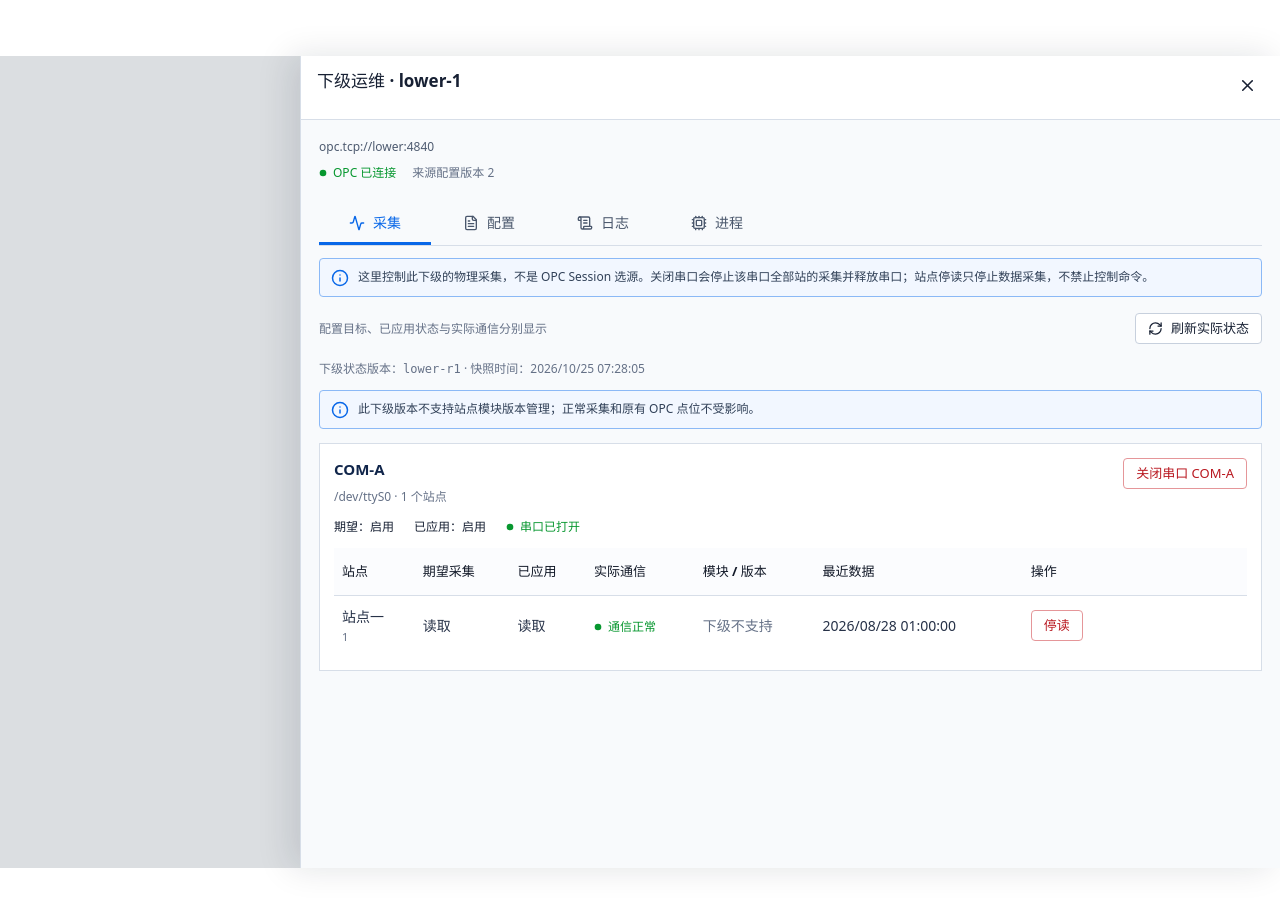
physical lower-source operations drawer › stops on a rotated log generation and replaces rather than appends the next page
The width and height of the screenshot is (1280, 900).
What coordinates should you click on to do the following:
click the tab "日志"
I would click on:
 (603, 224)
Its box is [547, 203, 659, 245].
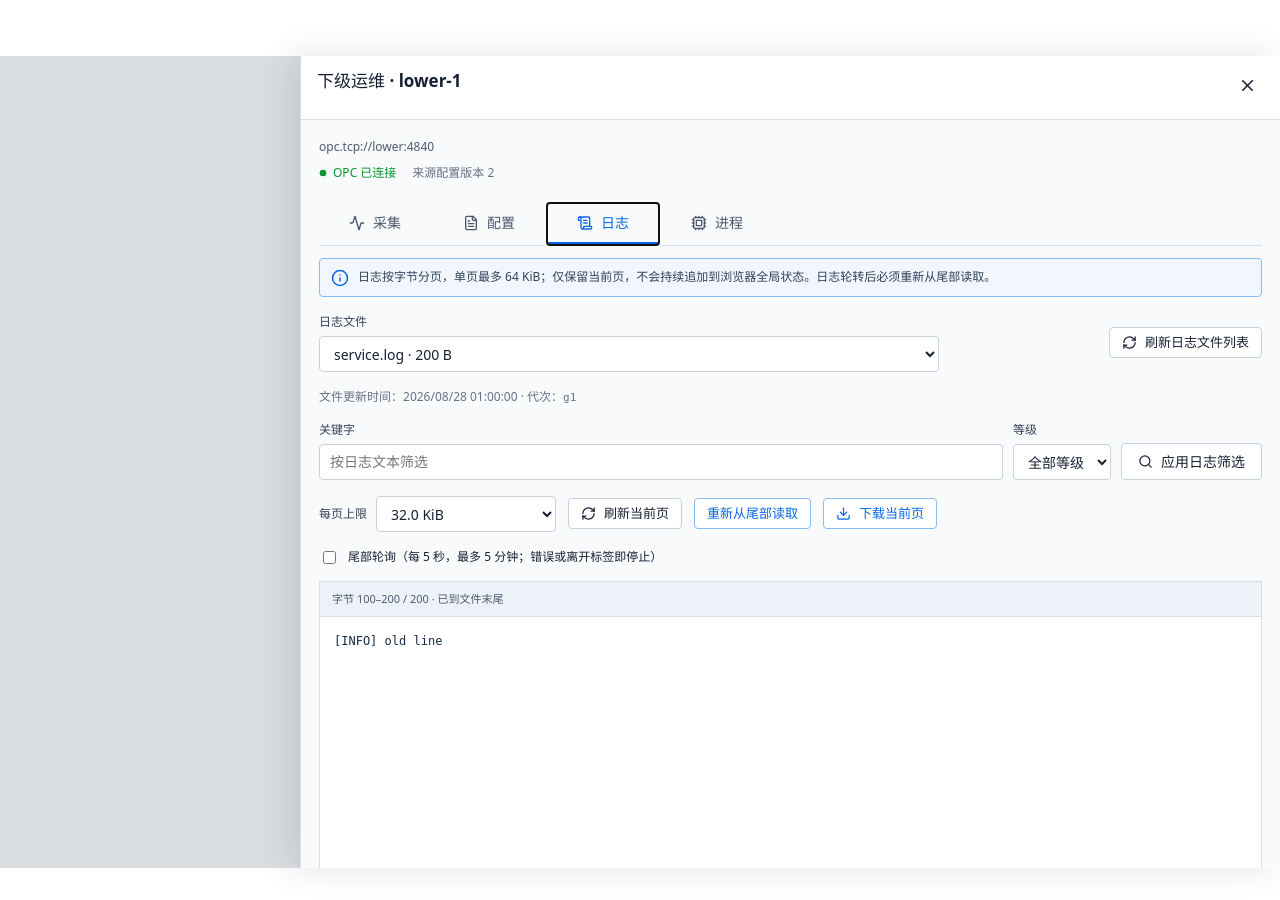
Expected: the text named "日志内容" shows "old line", [334, 634, 442, 648]
What coordinates should you click on to do the following:
click the button "刷新当前页"
I would click on:
 (625, 514)
Its box is [568, 498, 682, 529].
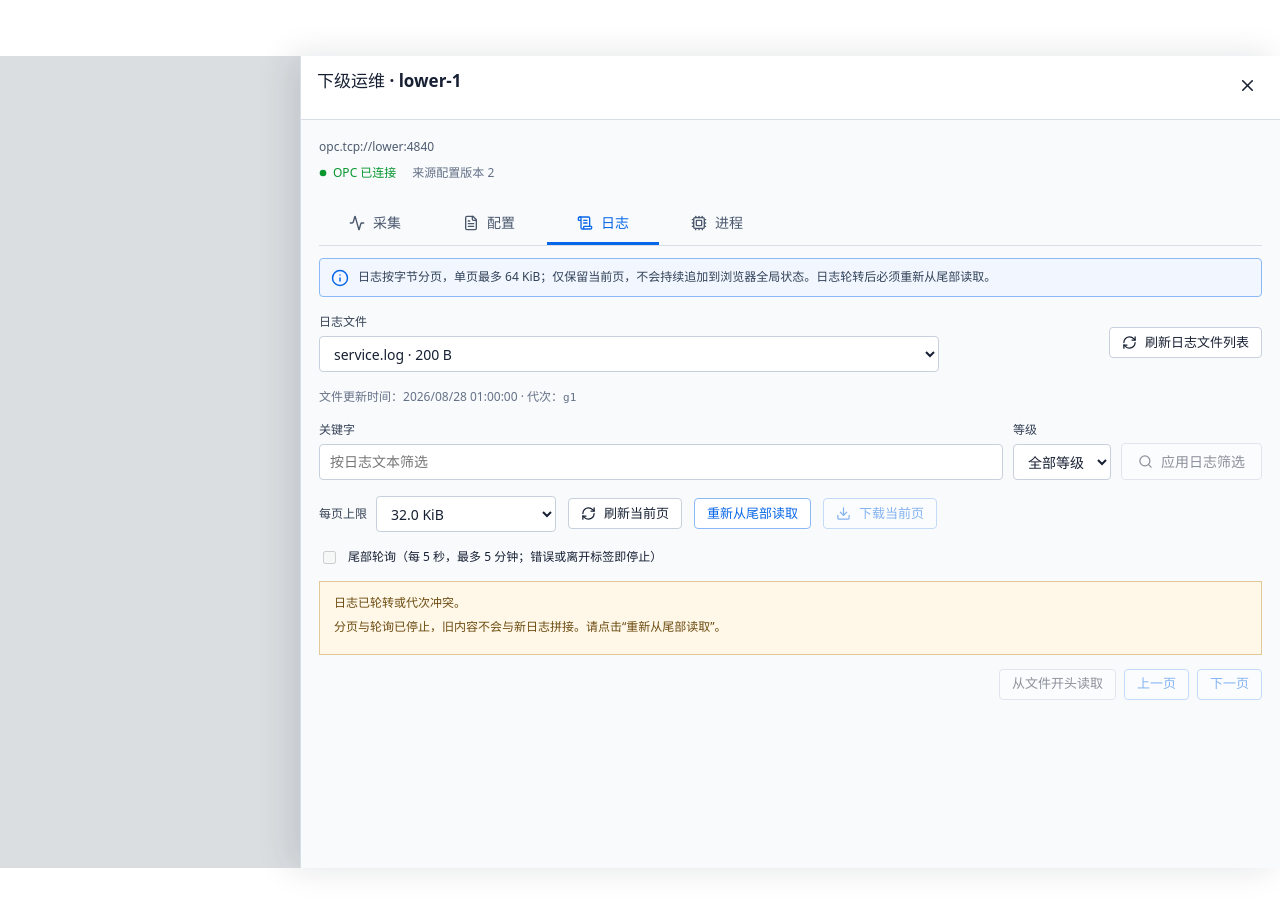
Expected: the text "日志已轮转或代次冲突。" is shown, [334, 594, 466, 610]
Expected: the button "下一页" is disabled, [1197, 668, 1262, 700]
What coordinates should you click on to do the following:
click the button "重新从尾部读取"
I would click on:
 (752, 514)
Its box is [694, 498, 811, 529].
(page scrolled)
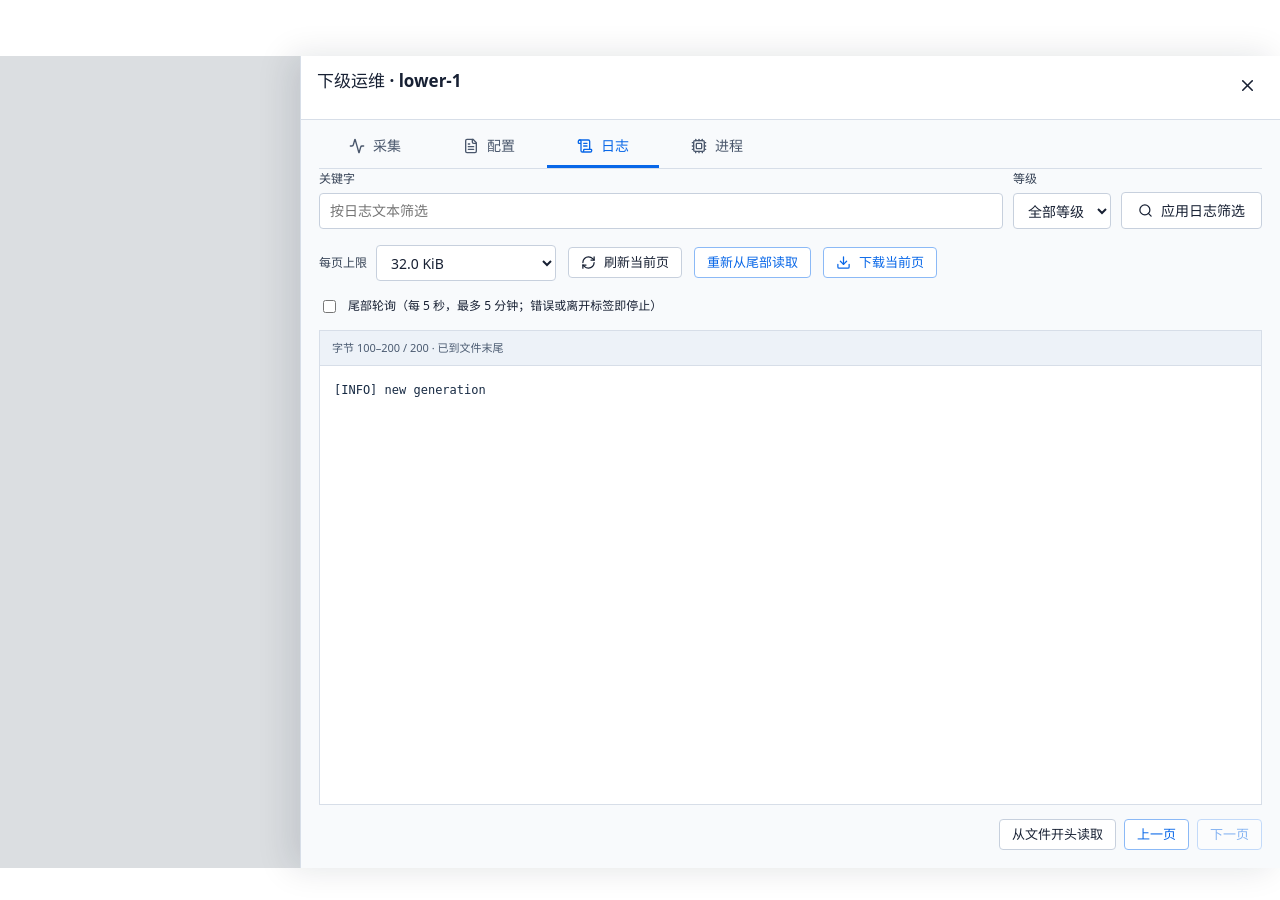
Expected: the text named "日志内容" does not show "old line", [319, 365, 1262, 805]
Expected: the text named "日志内容" shows "new generation", [334, 383, 486, 397]
